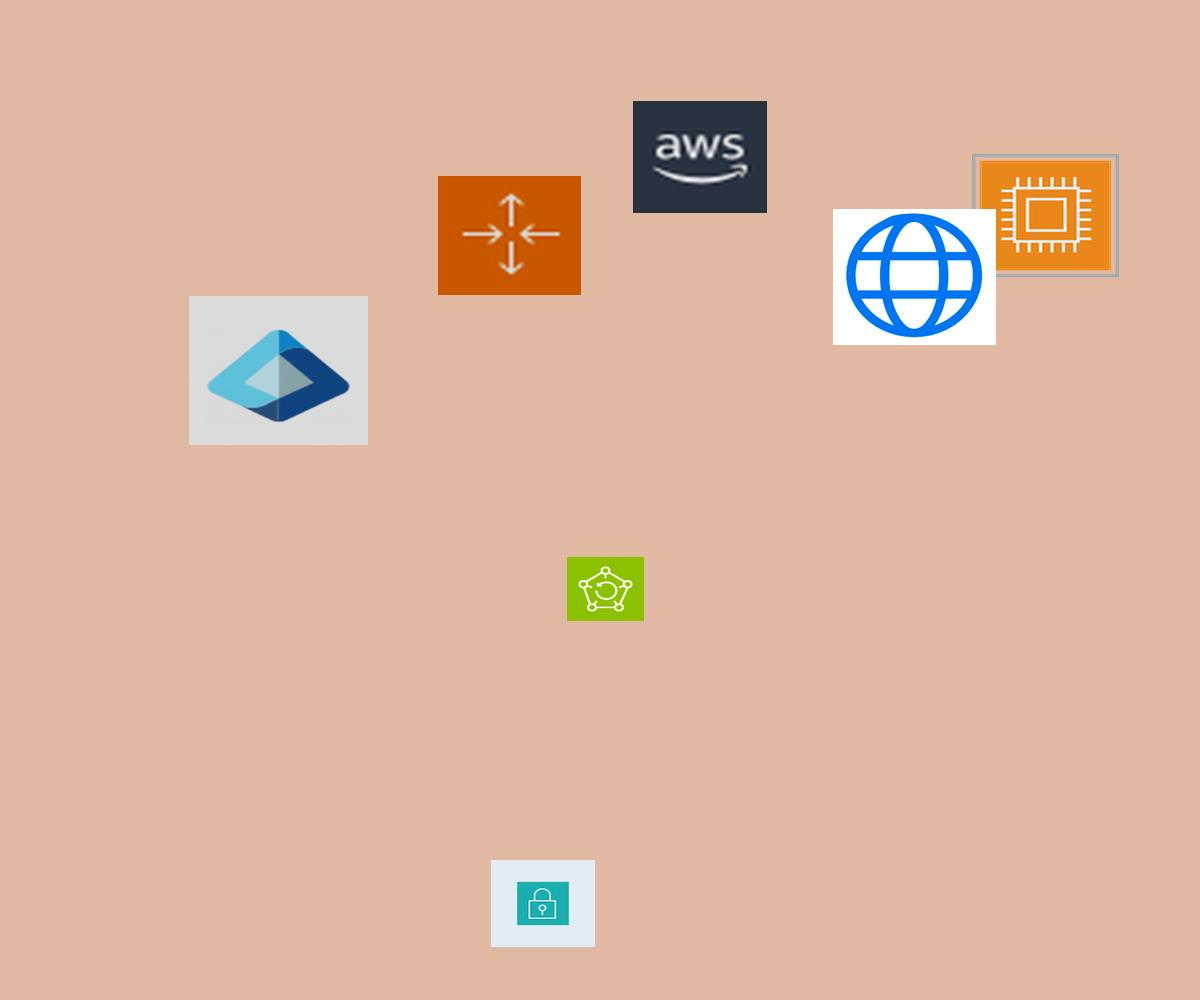AWS-Backup: (567, 557, 644, 621)
AWS-Category_Compute: (972, 154, 1119, 277)
AWS-Cloud-logo: (633, 101, 767, 213)
AWS-Private-subnet: (491, 860, 595, 947)
AWS-Scaling-group: (438, 176, 581, 295)
Azure_http: (833, 209, 996, 345)
Azure_microsoft_entra: (189, 296, 368, 445)
